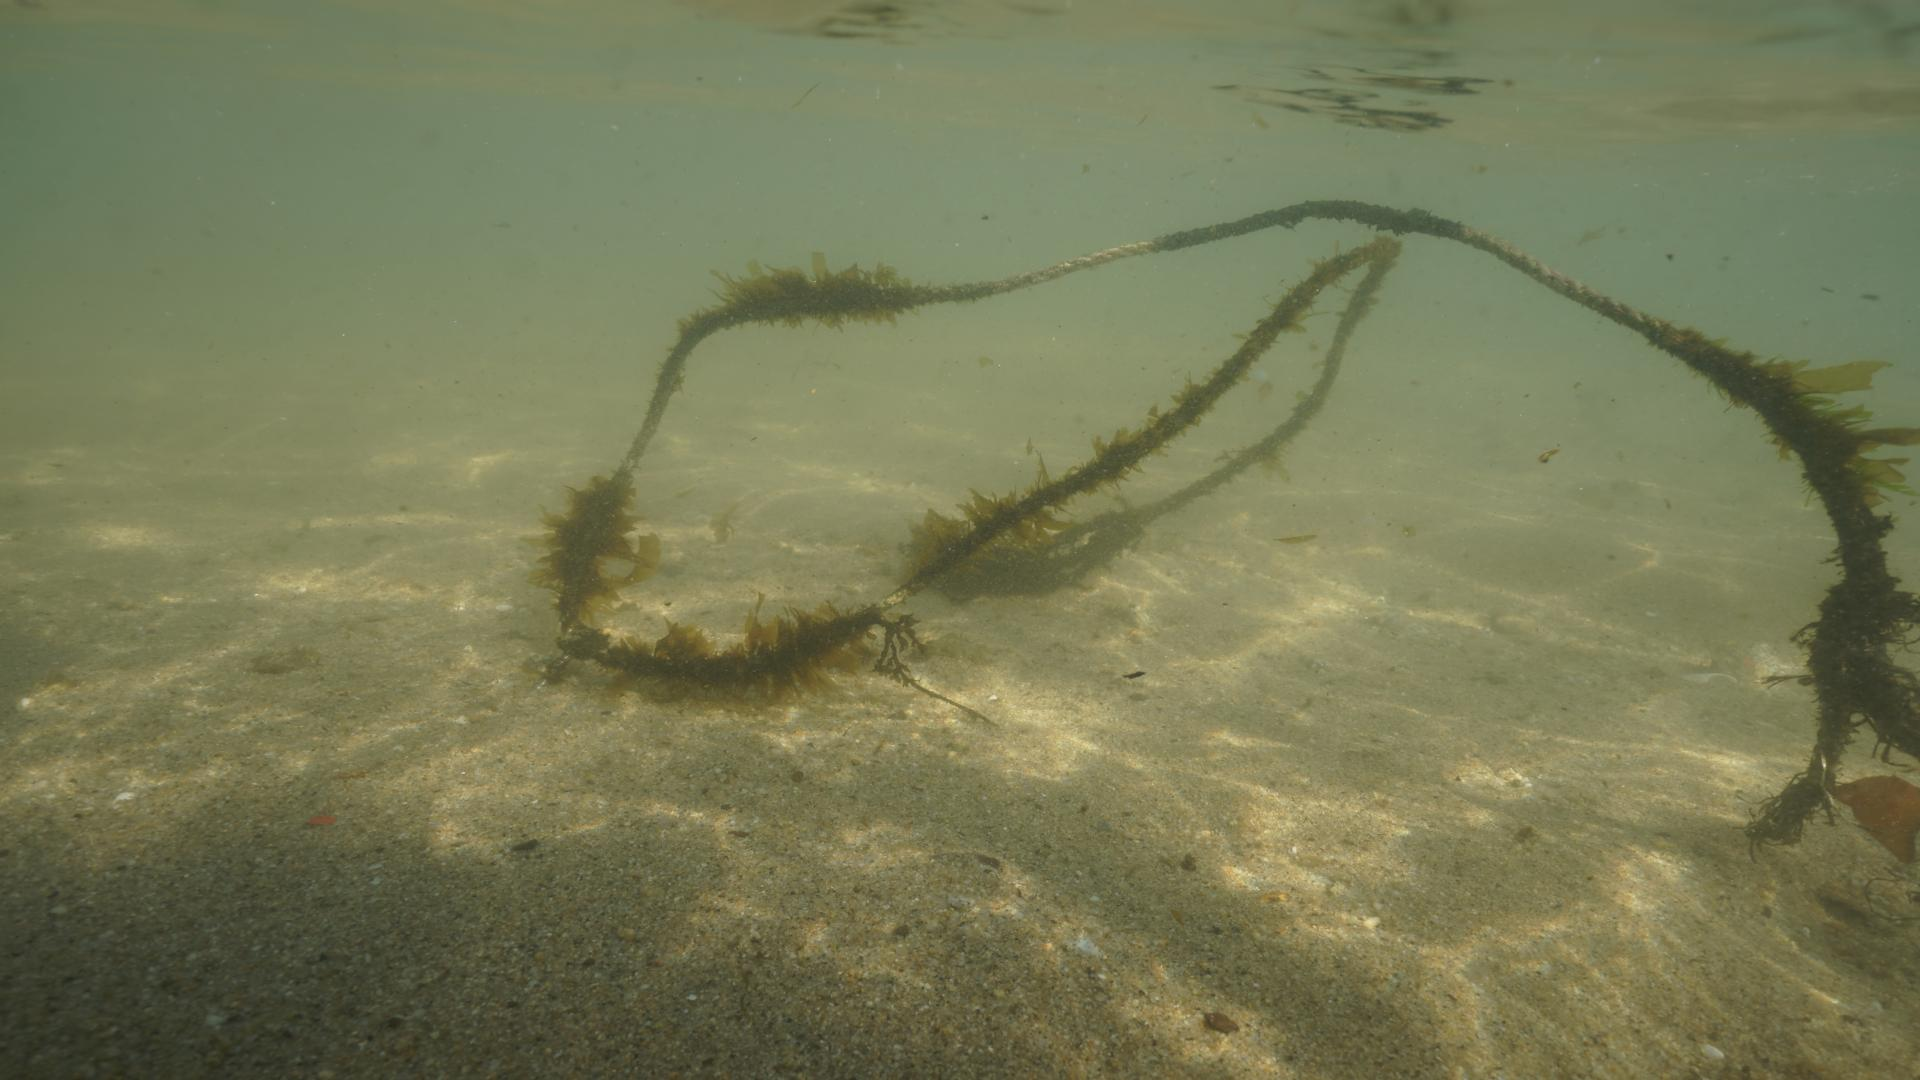rope: (546, 196, 1920, 840)
